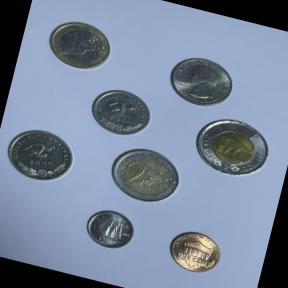coin: (186, 109, 278, 186), (101, 138, 188, 214), (0, 119, 82, 194), (38, 10, 120, 80), (162, 49, 238, 115), (159, 223, 229, 283), (76, 202, 144, 258)
